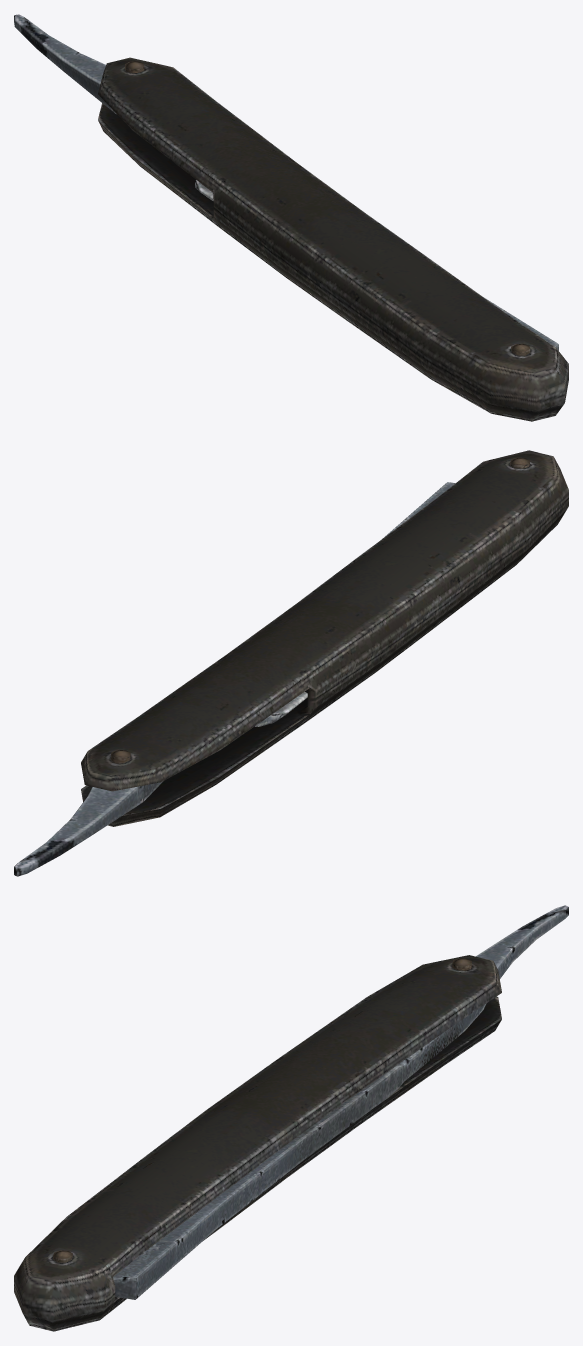
File: razor_knife.dae
3 renders of one model, top to bottom at view 1: azimuth 30°, elevation 25°; view 2: azimuth 150°, elevation 25°; view 3: azimuth 330°, elevation 25°, orthographic. The views are drawn at different scales.
Visible parts, largest first — view 1: handle, blade; view 2: handle, blade; view 3: handle, blade.
Part boxes in pixels (left/top/right/bottom): handle: left=98, top=57, right=568, bottom=421; blade: left=14, top=14, right=558, bottom=350; handle: left=81, top=450, right=568, bottom=826; blade: left=14, top=482, right=455, bottom=876; handle: left=14, top=955, right=501, bottom=1331; blade: left=113, top=905, right=568, bottom=1299.
Size of the model in its own units: 0.0476 by 0.0278 by 0.3881.
